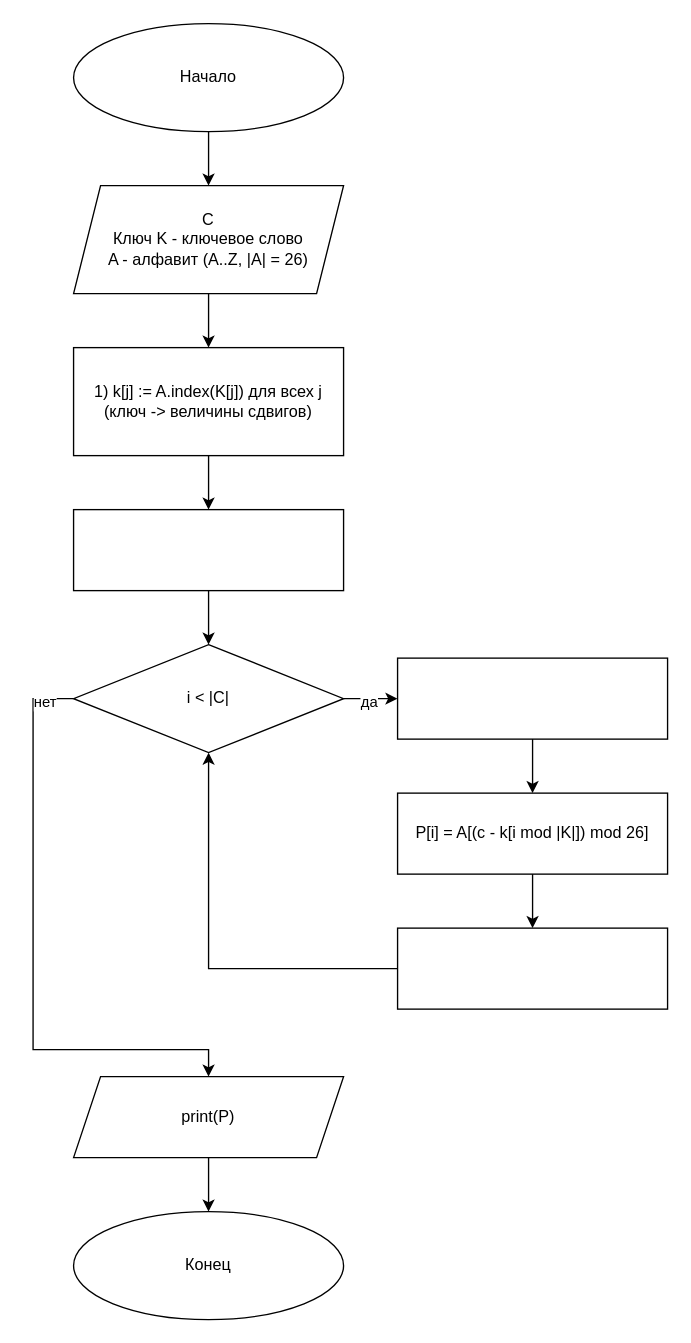
This 691x1343 diagram has some shape labels left out. The box of each missing label's shape, as (x1, y1, x2, y2) in pixels:
c := A.index(C[i]): (396, 657, 668, 739)
i += 1: (396, 927, 668, 1009)
i := 0: (72, 508, 344, 591)
